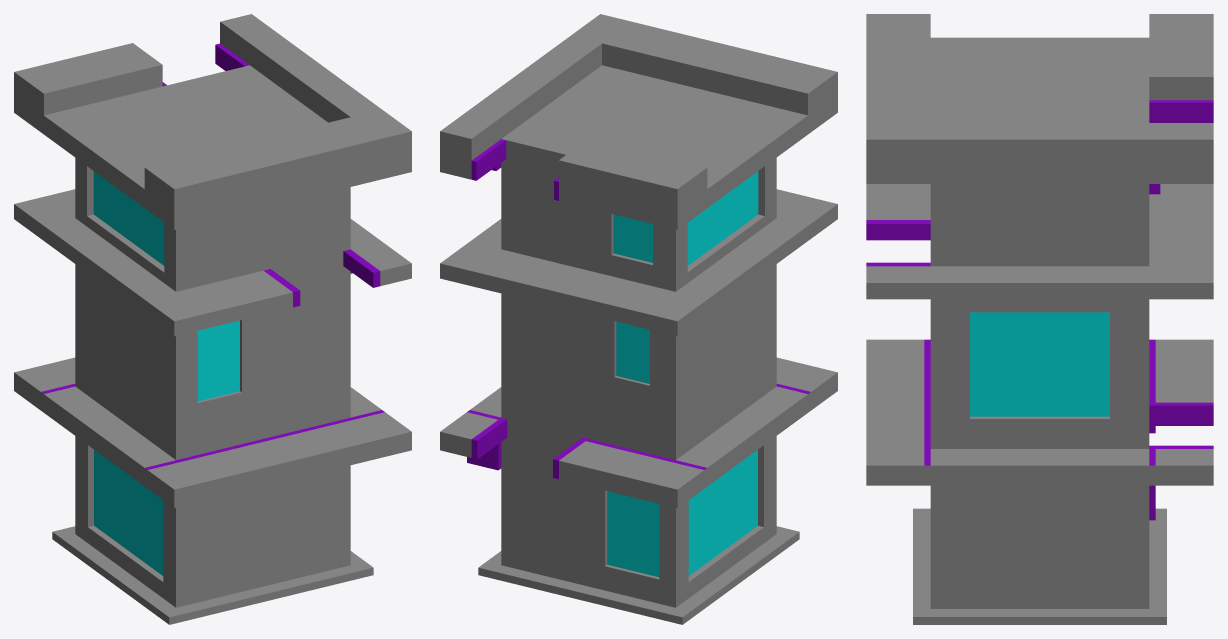
Rendered from Building2.fbx.
The picture shows the model from 3 angles, left to right: view 1: azimuth 30°, elevation 25°; view 2: azimuth 150°, elevation 25°; view 3: azimuth 270°, elevation 25°; orthographic projection. The views are drawn at different scales.
Visible parts, largest first — view 1: Building2; view 2: Building2; view 3: Building2.
Part boxes in pixels (left/top/right/bottom): Building2: left=14, top=14, right=411, bottom=624; Building2: left=440, top=14, right=837, bottom=624; Building2: left=866, top=14, right=1213, bottom=624.
Bounding box in the file's own units: 13.11 × 24.01 × 15.31.
